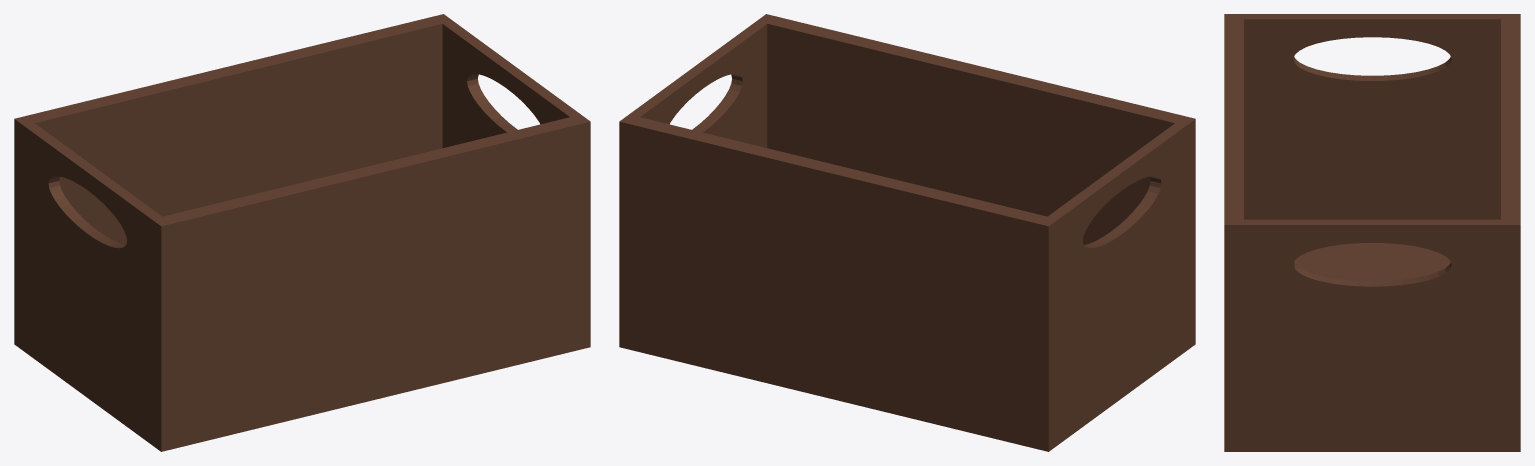
File: Caixa.fbx
3 views of the same model, side by side, from view 1: azimuth 30°, elevation 25°; view 2: azimuth 150°, elevation 25°; view 3: azimuth 270°, elevation 25° (orthographic).
Parts seen in each view (by area): view 1: Cube; view 2: Cube; view 3: Cube.
Part boxes in pixels (x1,y1,x2,y2): Cube: [14, 14, 590, 451]; Cube: [619, 14, 1195, 451]; Cube: [1224, 14, 1520, 451].
Bounding box in the file's own units: 33.92 × 17.03 × 20.11.
